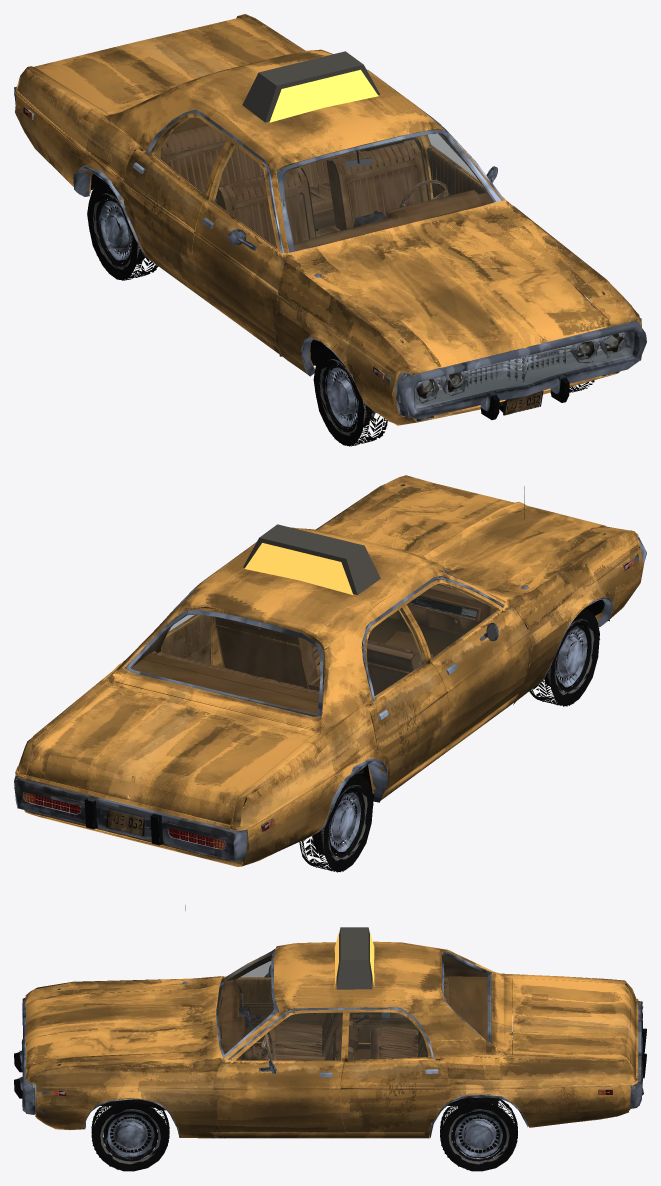
The model's file is taxi.glb.
The picture shows the model from 3 angles, top to bottom: view 1: azimuth 30°, elevation 25°; view 2: azimuth 150°, elevation 25°; view 3: azimuth 270°, elevation 25°; orthographic projection. The views are drawn at different scales.
Visible parts, largest first — view 1: Taxi_Body, Taxi_Interior, Taxi_Glass, Taxi_Door_FR, Taxi_Door_RR, Taxi_Wheel_FR, Taxi_Wheel_RR, Taxi_RoofLamp, Taxi_RoofLamp_Face, Taxi_Door_FL; view 2: Taxi_Body, Taxi_Interior, Taxi_Door_FR, Taxi_Glass, Taxi_Door_RR, Taxi_Wheel_RR, Taxi_Wheel_FR, Taxi_RoofLamp, Taxi_RoofLamp_Face, Taxi_Door_RL; view 3: Taxi_Body, Taxi_Door_FL, Taxi_Interior, Taxi_Door_RL, Taxi_Glass, Taxi_Wheel_RL, Taxi_Wheel_FL, Taxi_RoofLamp, Taxi_Door_FR, Taxi_Door_RR.
Part boxes in pixels (x1,y1,x2,y2): Taxi_Body: [14, 14, 646, 425]; Taxi_Interior: [143, 101, 501, 356]; Taxi_Glass: [282, 133, 494, 250]; Taxi_Door_FR: [193, 138, 286, 347]; Taxi_Door_RR: [122, 113, 230, 287]; Taxi_Wheel_FR: [313, 349, 387, 446]; Taxi_Wheel_RR: [87, 182, 158, 280]; Taxi_RoofLamp: [242, 51, 379, 122]; Taxi_RoofLamp_Face: [269, 69, 378, 122]; Taxi_Door_FL: [424, 128, 505, 200]; Taxi_Body: [14, 475, 646, 866]; Taxi_Interior: [123, 584, 519, 800]; Taxi_Door_FR: [403, 579, 531, 752]; Taxi_Glass: [132, 615, 319, 713]; Taxi_Door_RR: [364, 603, 448, 790]; Taxi_Wheel_RR: [299, 773, 373, 872]; Taxi_Wheel_FR: [529, 608, 599, 706]; Taxi_RoofLamp: [243, 524, 380, 594]; Taxi_RoofLamp_Face: [244, 543, 353, 594]; Taxi_Door_RL: [125, 614, 211, 684]; Taxi_Body: [14, 905, 646, 1138]; Taxi_Door_FL: [212, 1010, 346, 1132]; Taxi_Interior: [210, 954, 491, 1138]; Taxi_Door_RL: [340, 1009, 448, 1131]; Taxi_Glass: [217, 951, 487, 1054]; Taxi_Wheel_RL: [440, 1097, 517, 1171]; Taxi_Wheel_FL: [91, 1099, 169, 1171]; Taxi_RoofLamp: [336, 927, 372, 989]; Taxi_Door_FR: [222, 961, 325, 1043]; Taxi_Door_RR: [351, 1012, 417, 1043].
Bounding box in the file's own units: 2.05 × 1.77 × 5.4.
Materials: 26 (24 with a texture image).
